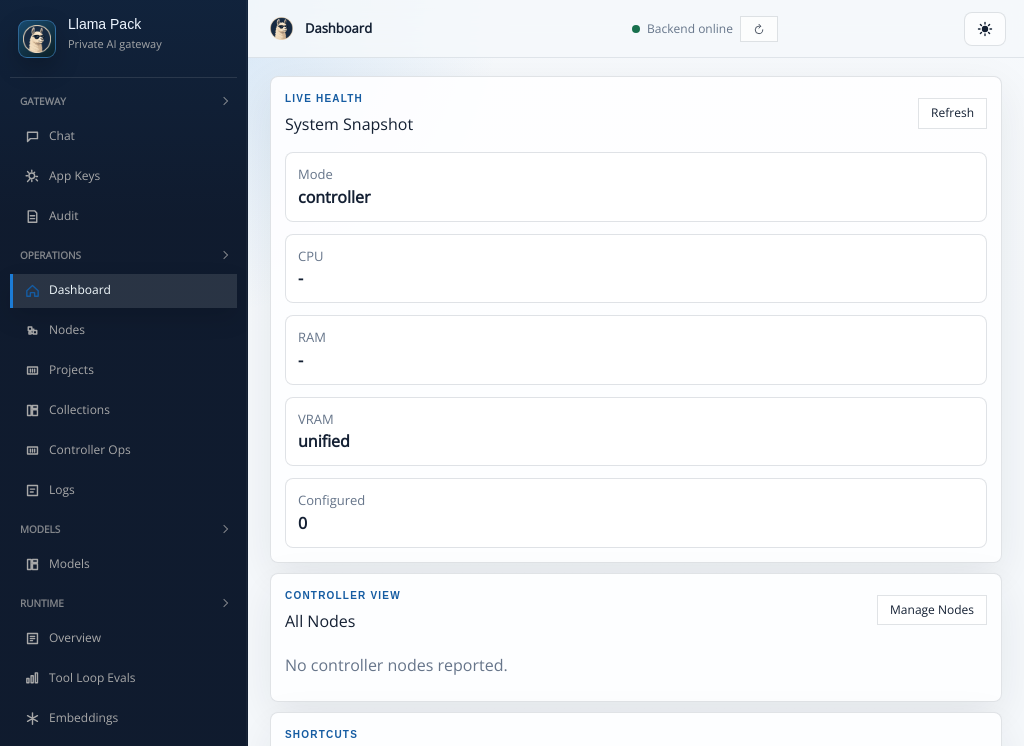
Test: toggles dark mode from the shell header
Click the button named "Switch to dark mode" at (985, 28), box x1=964 y1=12 x2=1006 y2=46
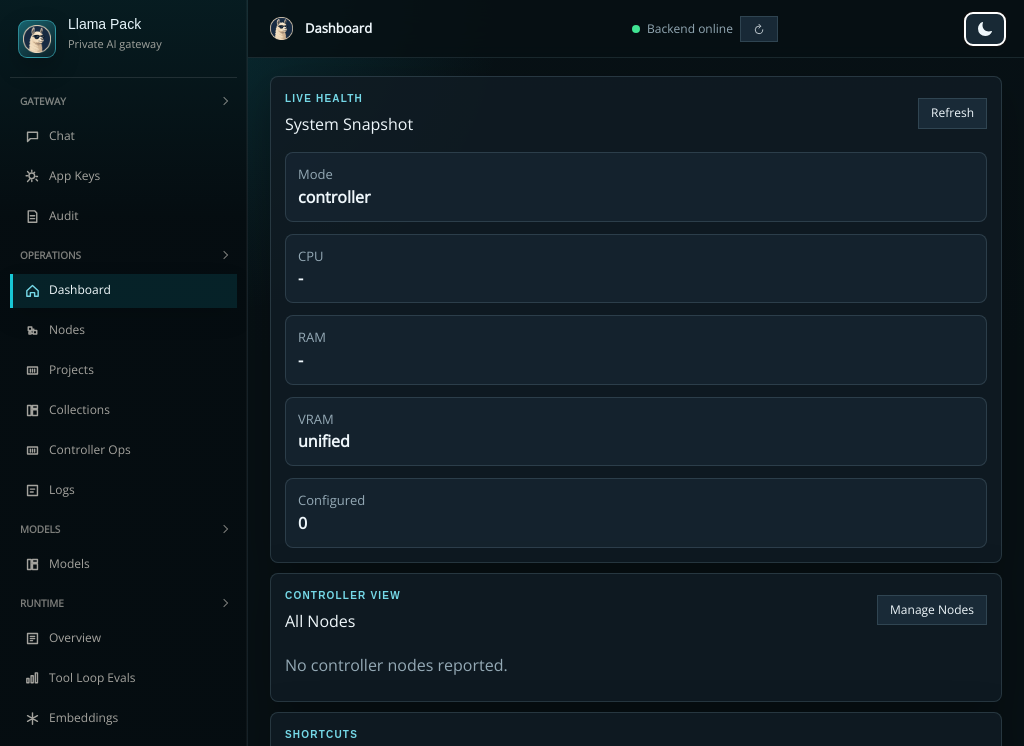
Check: the button named "Switch to light mode" is shown, box x1=964 y1=12 x2=1006 y2=46
